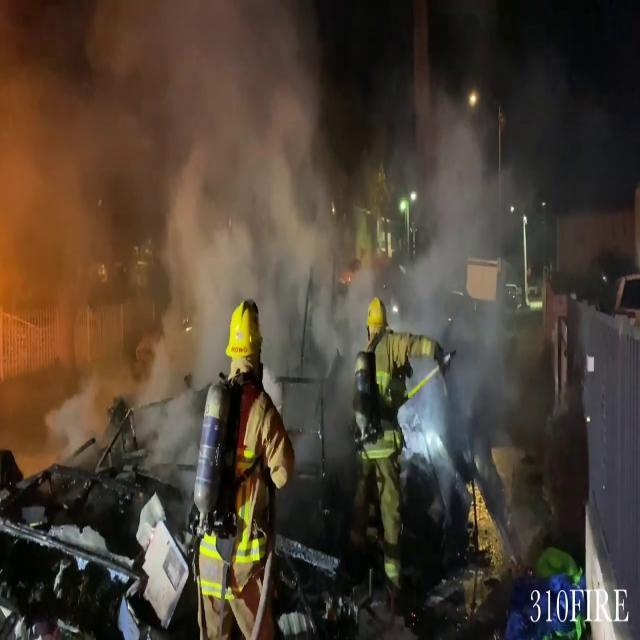Smoke: (0, 0, 364, 446), (412, 83, 544, 469)
